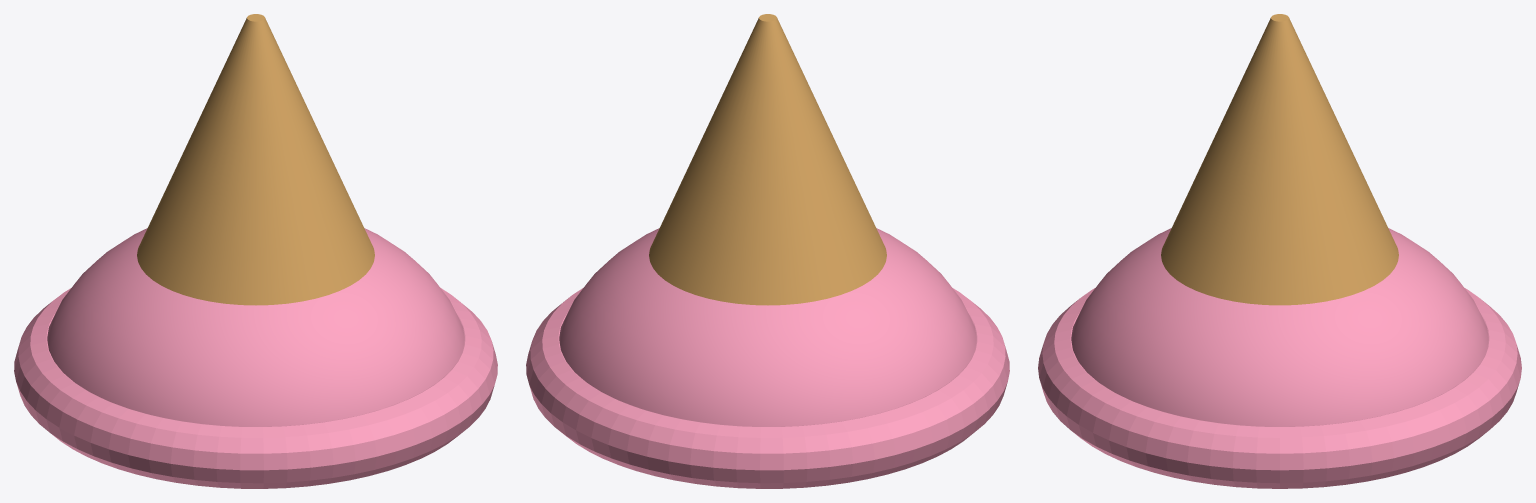
Rendered from icecream_hat.fbx.
3 renders of one model, left to right at view 1: azimuth 30°, elevation 25°; view 2: azimuth 150°, elevation 25°; view 3: azimuth 270°, elevation 25°, orthographic.
Parts seen in each view (by area): view 1: Sphere032, Cone001, Torus006; view 2: Sphere032, Cone001, Torus006; view 3: Sphere032, Cone001, Torus006.
Part boxes in pixels (box(x1,y1,x2,y2)): Sphere032: box(47, 228, 464, 426); Cone001: box(137, 14, 374, 305); Torus006: box(14, 287, 497, 488); Sphere032: box(559, 228, 976, 426); Cone001: box(649, 14, 886, 305); Torus006: box(526, 287, 1009, 488); Sphere032: box(1071, 228, 1488, 426); Cone001: box(1161, 14, 1398, 305); Torus006: box(1038, 288, 1521, 488).
Size of the model in its own units: 13.4 by 11.6 by 13.4.
